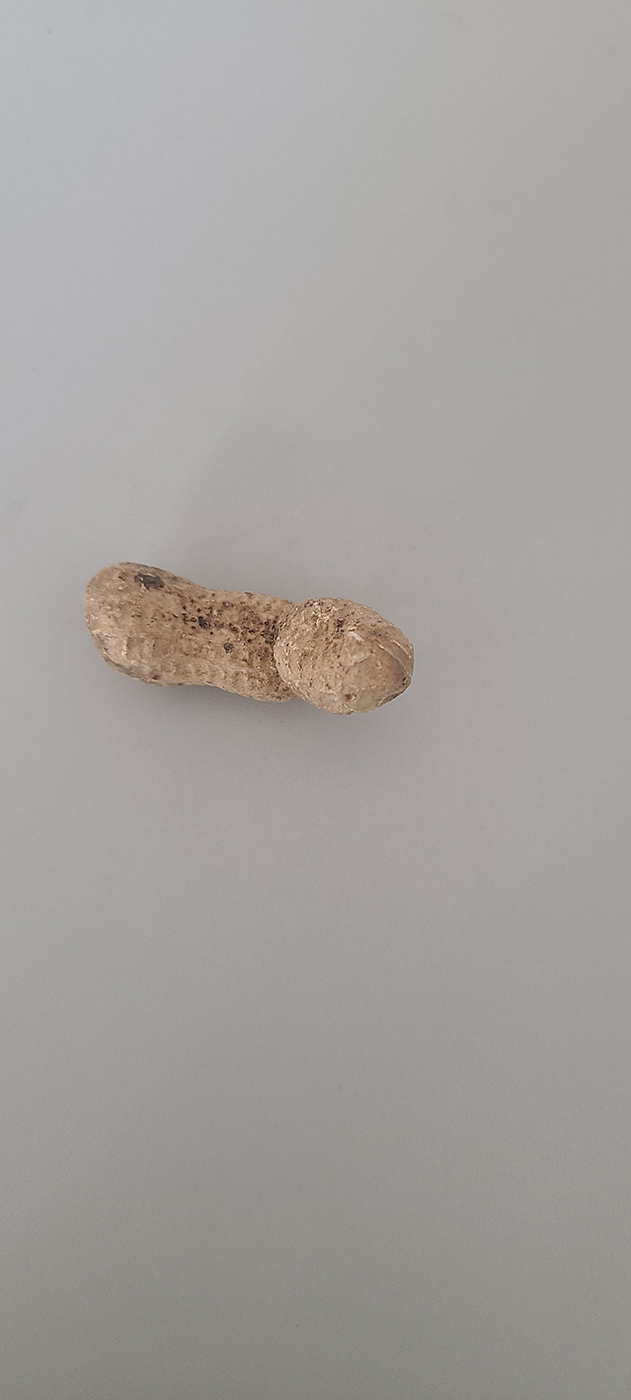h: (84, 564, 417, 715)
